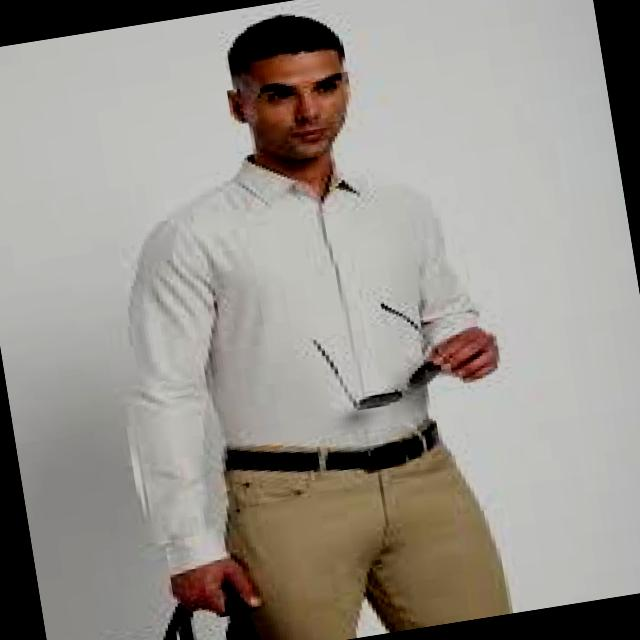face: (227, 48, 349, 161)
lower-wear: (224, 440, 512, 639)
top-wear: (127, 155, 479, 575)
